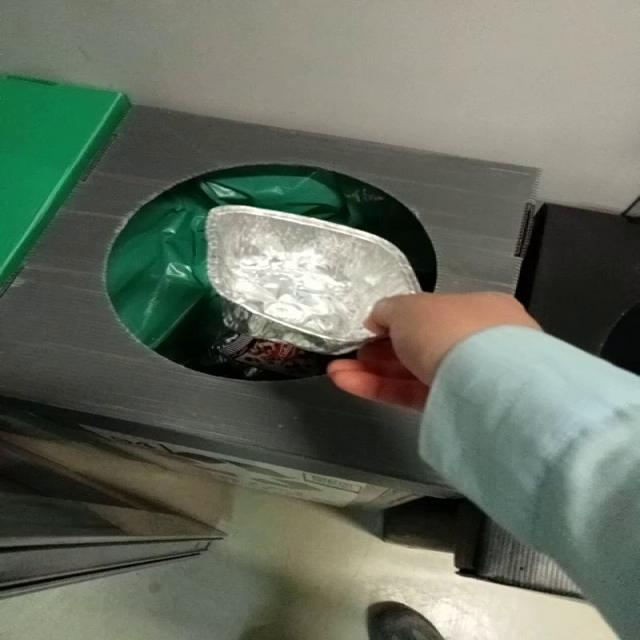bin: (1, 106, 540, 508)
metal: (205, 206, 421, 354)
